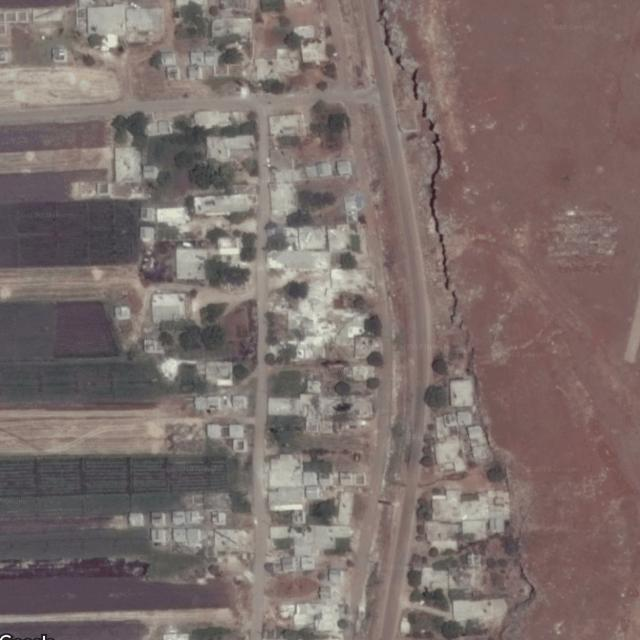damaged_building: (290, 276, 336, 360)
